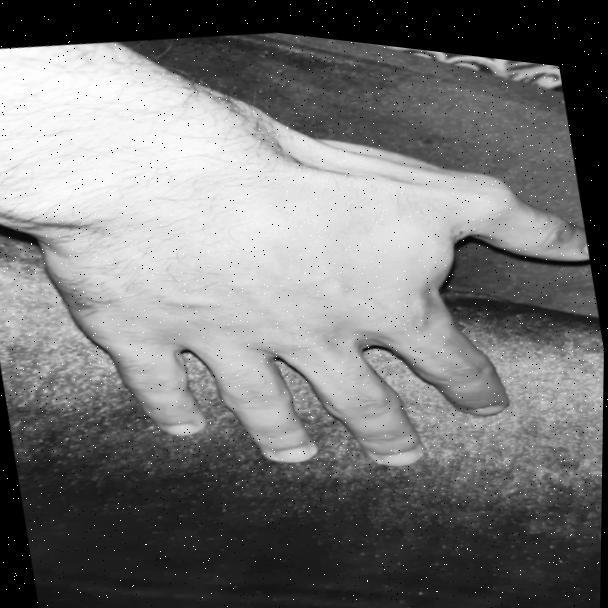five: (19, 79, 607, 537)
